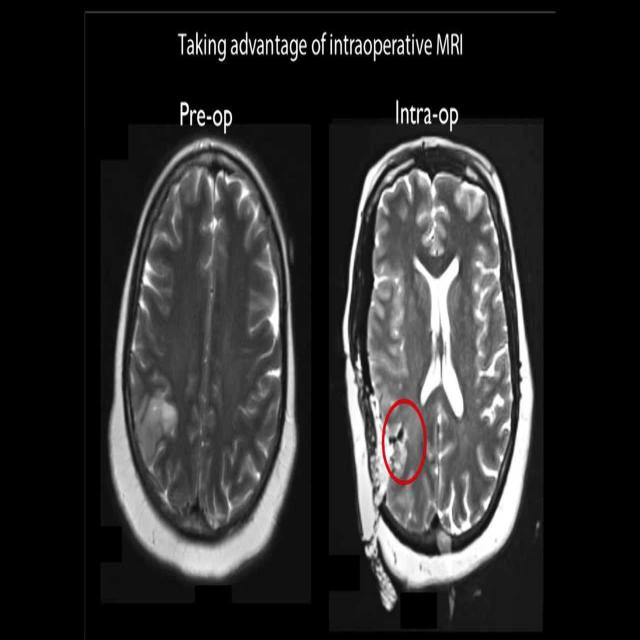Tumor: (141, 393, 178, 456), (382, 425, 411, 474)
